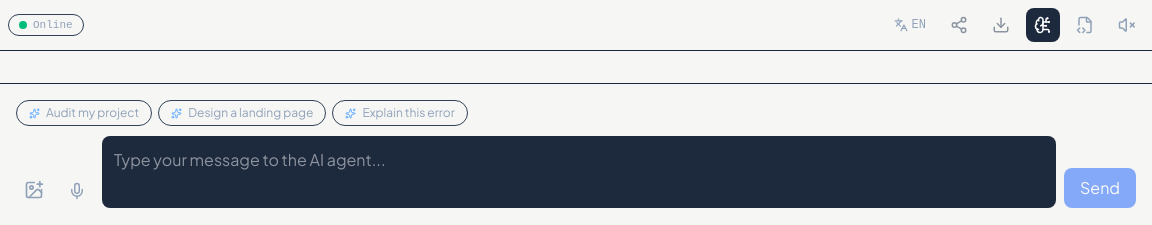
Test: ChatInterface Tier-S wiring contract (M10) › toggles UI language when clicking the language toggle
Click the button with test id "lang-toggle" at (910, 25), box [886,13,934,37]
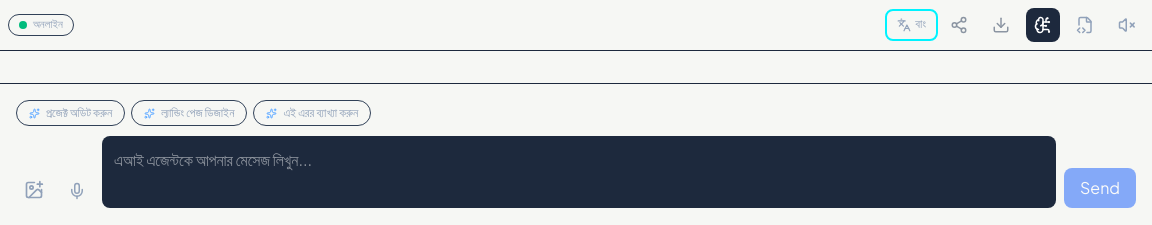
Now the button with test id "lang-toggle" reads "বাং", box [889,13,934,37]
Now the text box with placeholder "এআই এজেন্টকে আপনার মেসেজ লিখুন..." is shown, box [102,136,1056,208]
